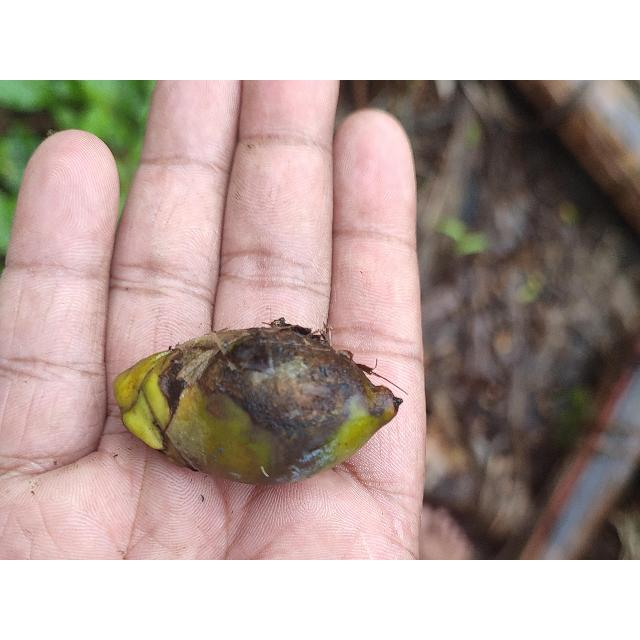damaged: (109, 318, 404, 488)
